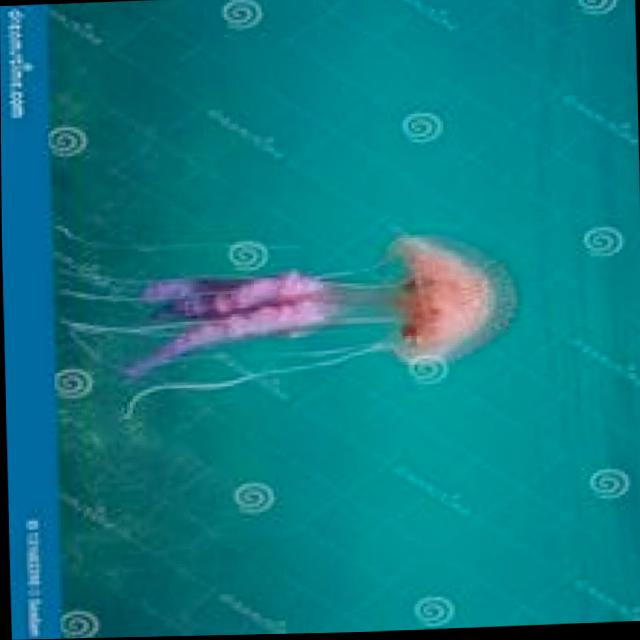Box-jellyfish: (38, 218, 529, 441)
